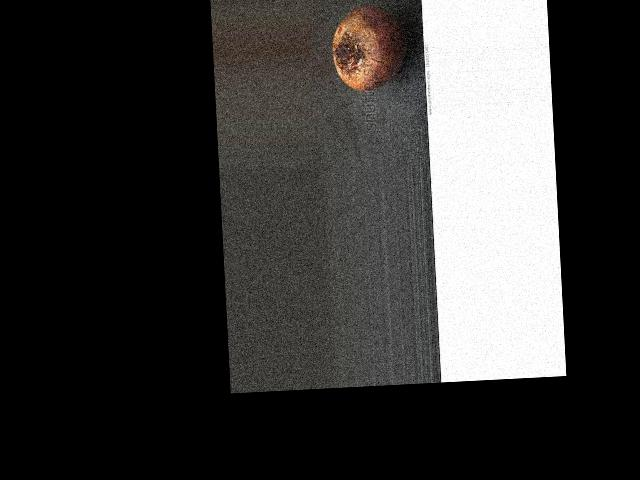beet: (330, 2, 408, 91)
